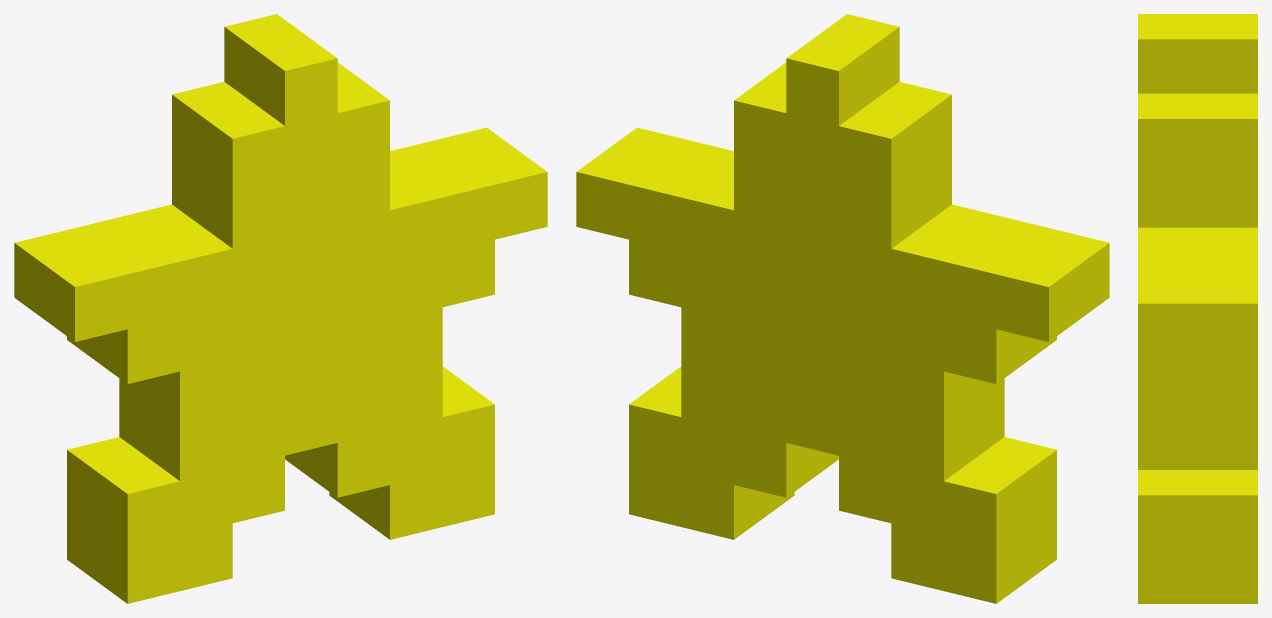
The model's file is star.obj.
3 renders of one model, left to right at view 1: azimuth 30°, elevation 25°; view 2: azimuth 150°, elevation 25°; view 3: azimuth 270°, elevation 25°, orthographic.
Size of the model in its own units: 0.9 by 0.9 by 0.2.
1 material, 1 textured.
